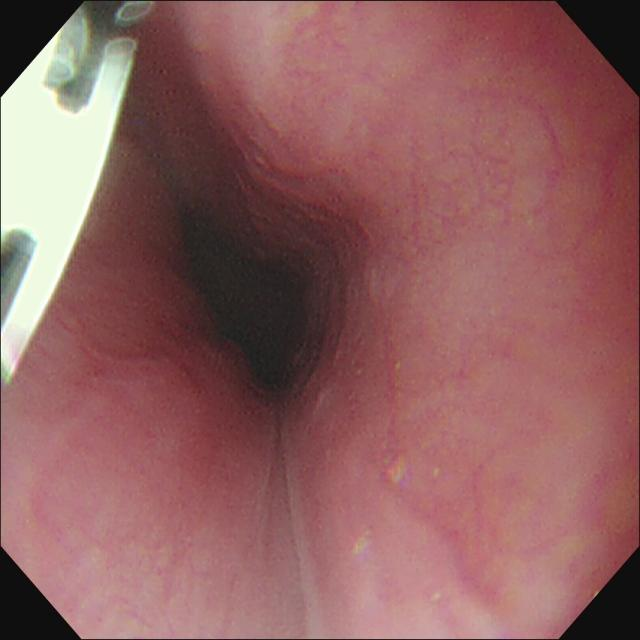E: (147, 135, 381, 425)
K: (2, 2, 156, 389)
